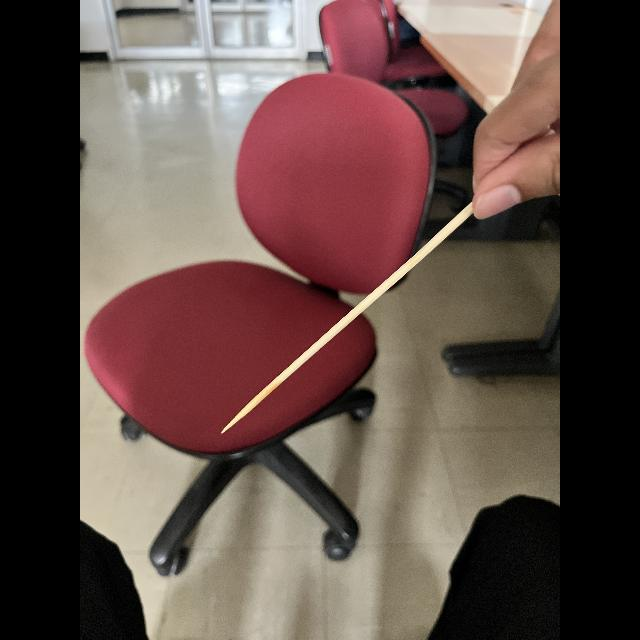stick: (213, 194, 482, 432)
